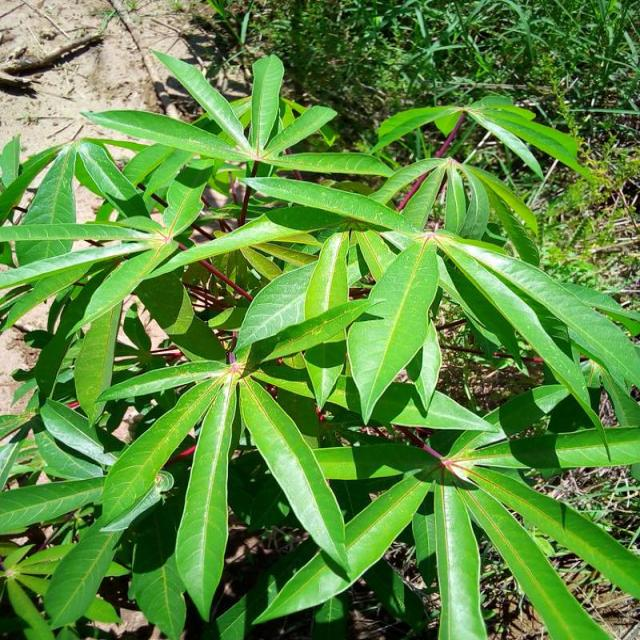cassava leaf: (2, 48, 639, 637)
